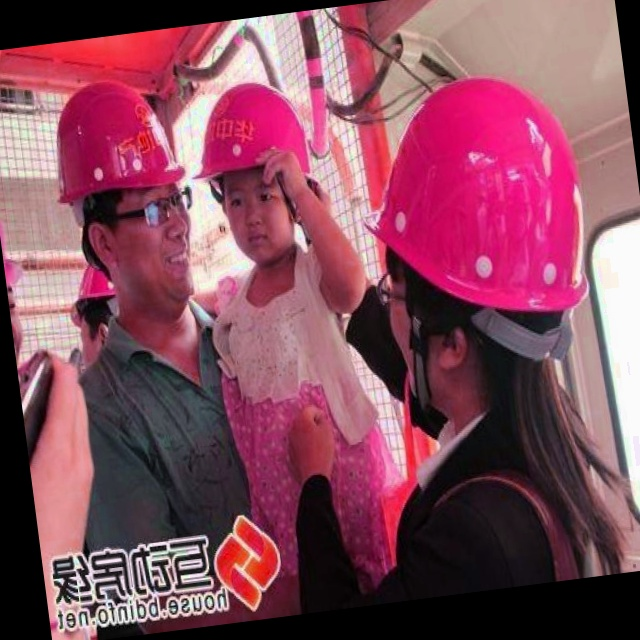Con_Casco: (48, 78, 205, 318), (198, 77, 323, 257)
